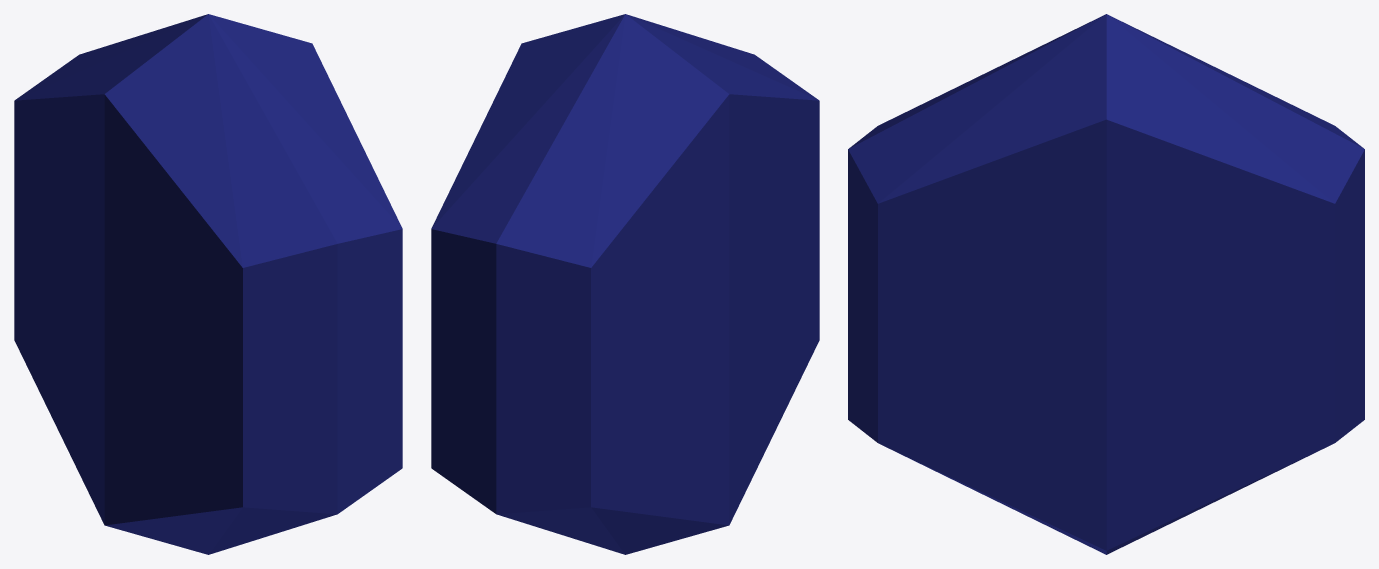
File: BlueGem.obj
3 renders of one model, left to right at view 1: azimuth 30°, elevation 25°; view 2: azimuth 150°, elevation 25°; view 3: azimuth 270°, elevation 25°, orthographic.
Visible parts, largest first — view 1: Gem2; view 2: Gem2; view 3: Gem2.
Part boxes in pixels (box(x1,y1,x2,y2)): Gem2: box(14, 14, 402, 554); Gem2: box(431, 14, 819, 554); Gem2: box(848, 14, 1364, 554).
Bounding box in the file's own units: 0.2645 × 0.6579 × 0.5697.
1 material, 1 textured.
